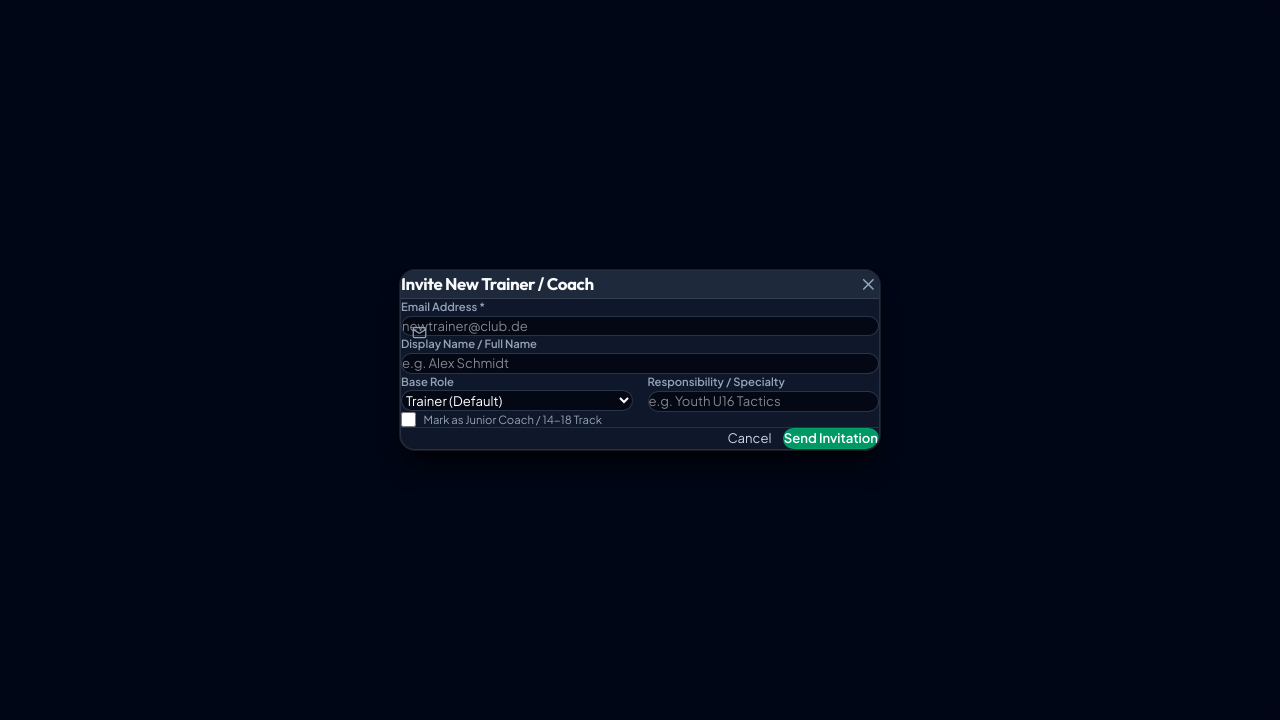
Test case: InviteModal › handles re-inviting an existing user by reactivating profile and role
Type "reinvite@club.de" into the field with placeholder "newtrainer@club.de" at (640,326), box [401,316,879,336]
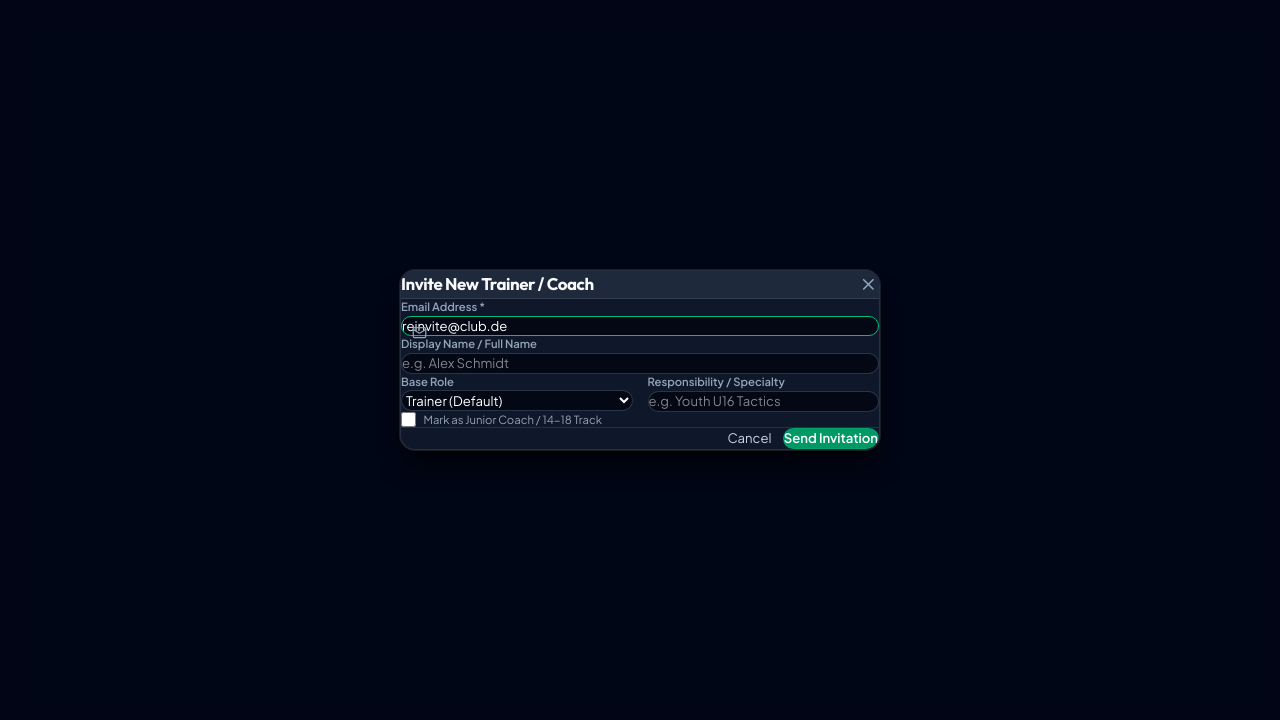
Click the button "Send Invitation" at (831,438), box [783,428,879,449]
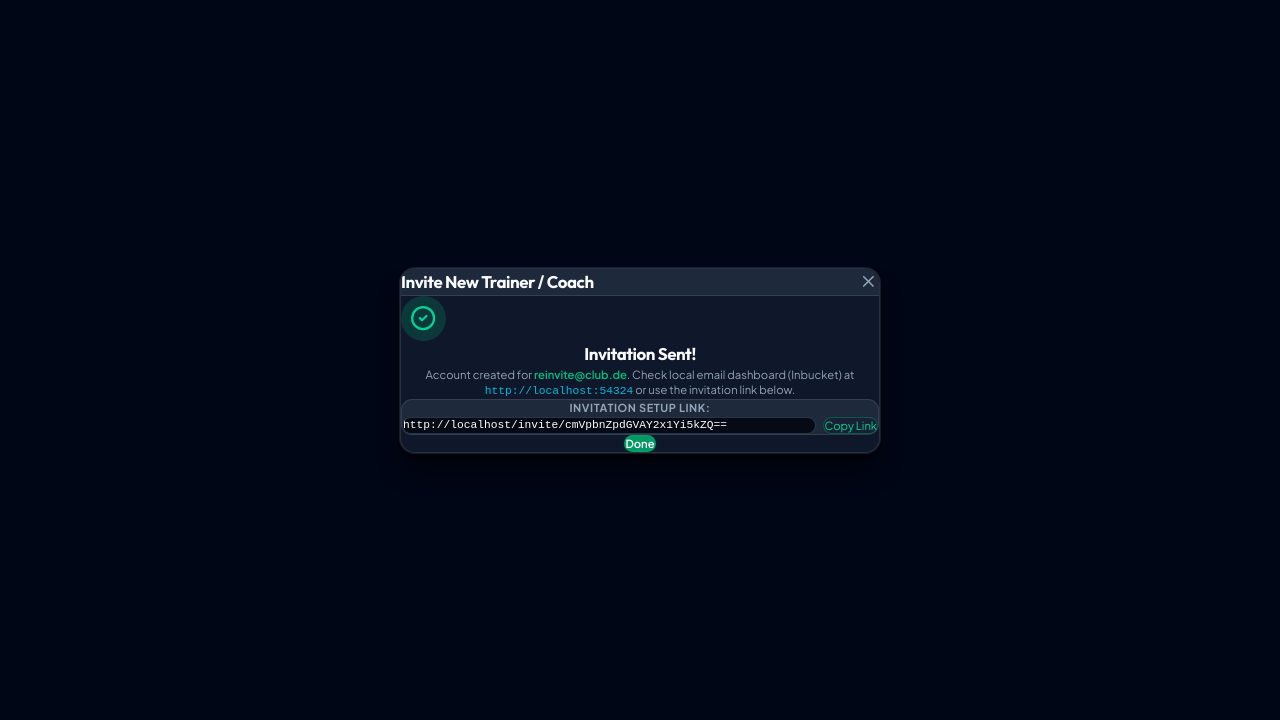
Expected: the heading "Invitation Sent!" is shown, [584,343,696,364]
